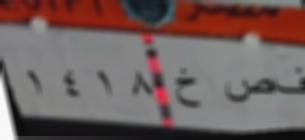1: (21, 64, 49, 109), (94, 60, 118, 109)
4: (61, 67, 82, 109)
8: (125, 62, 153, 107)
faa: (276, 62, 305, 105)
khaa: (174, 63, 203, 115)
saad: (222, 69, 275, 111)
